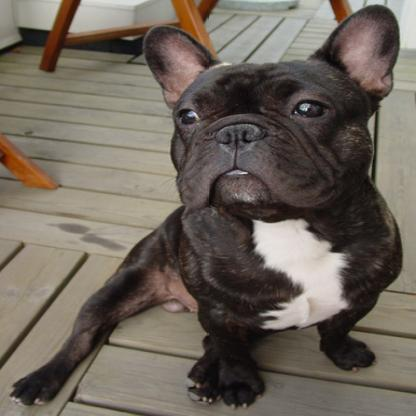French_bulldog: (5, 2, 403, 410)
